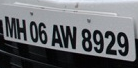0: (28, 19, 39, 43)
2: (103, 30, 118, 55)
6: (37, 21, 49, 45)
8: (81, 27, 94, 53)
9: (116, 31, 130, 57), (91, 29, 105, 54)
A: (49, 24, 64, 48)
H: (15, 18, 29, 41)
M: (2, 15, 17, 39)
W: (58, 24, 77, 49)
